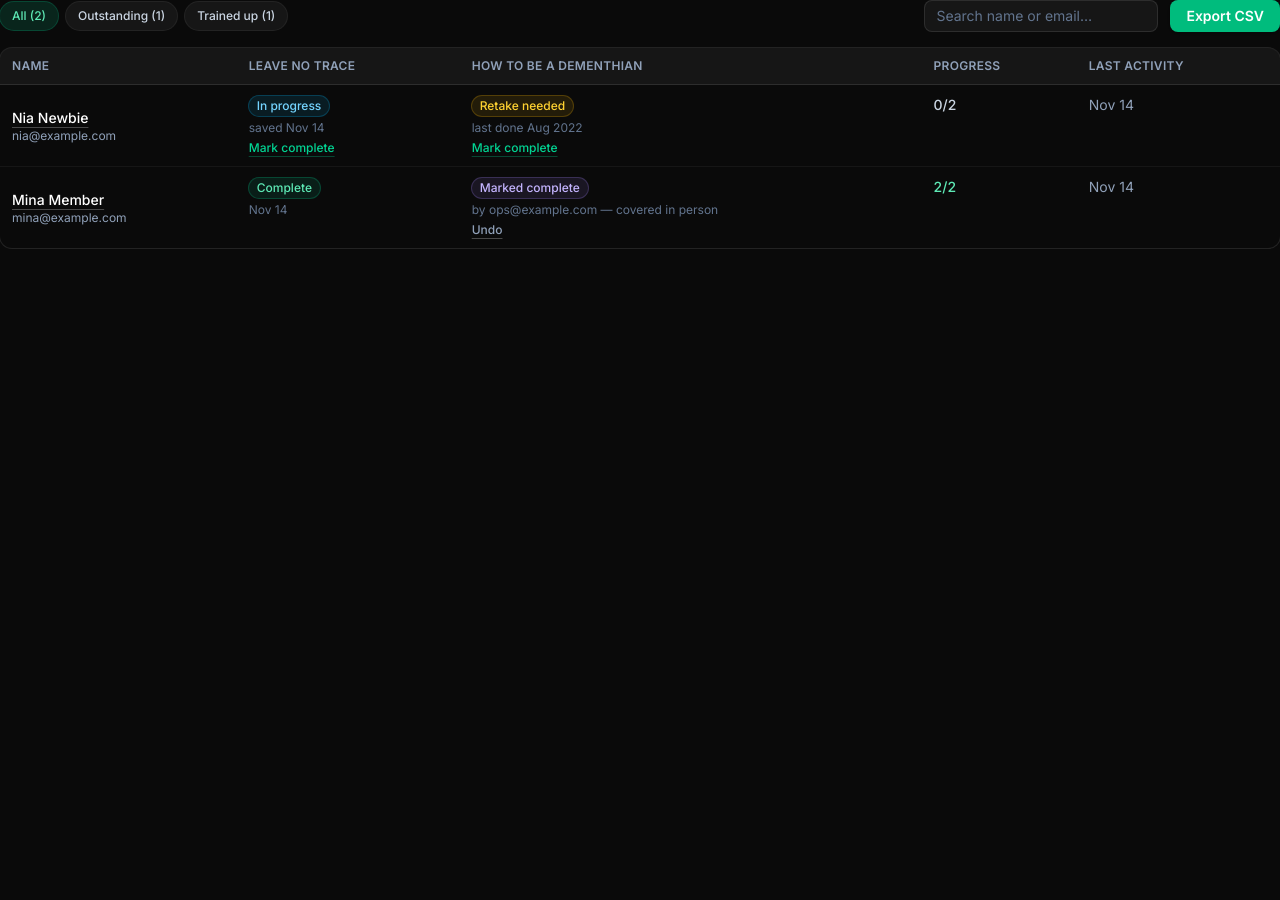
TrainingTable › surfaces a rejected override instead of closing the dialog
Click the button with aria-label "Mark Leave No Trace complete for Nia Newbie": point(292, 148) x1=249 y1=140 x2=334 y2=156
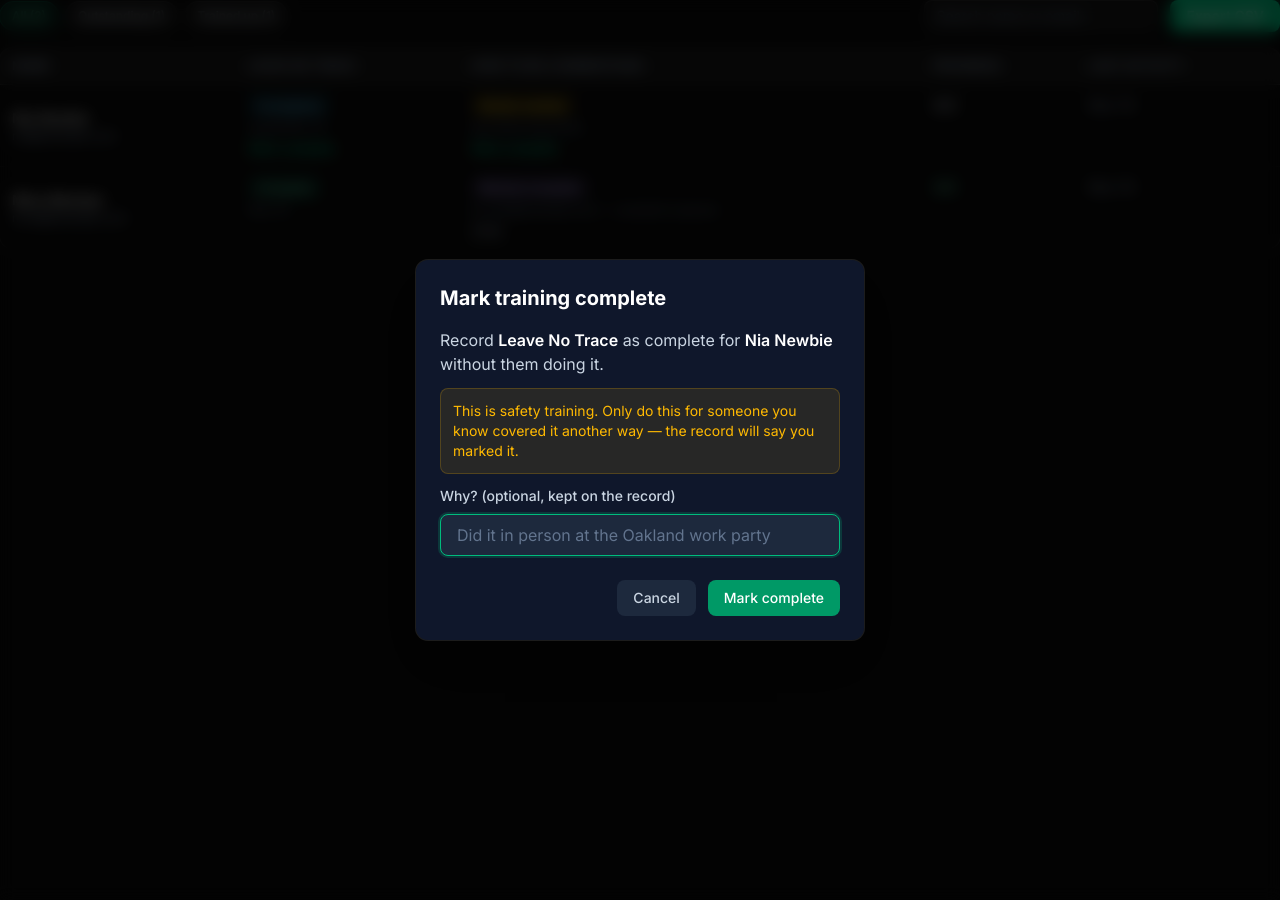
Click the button "Mark complete": point(774, 598) x1=708 y1=580 x2=840 y2=616
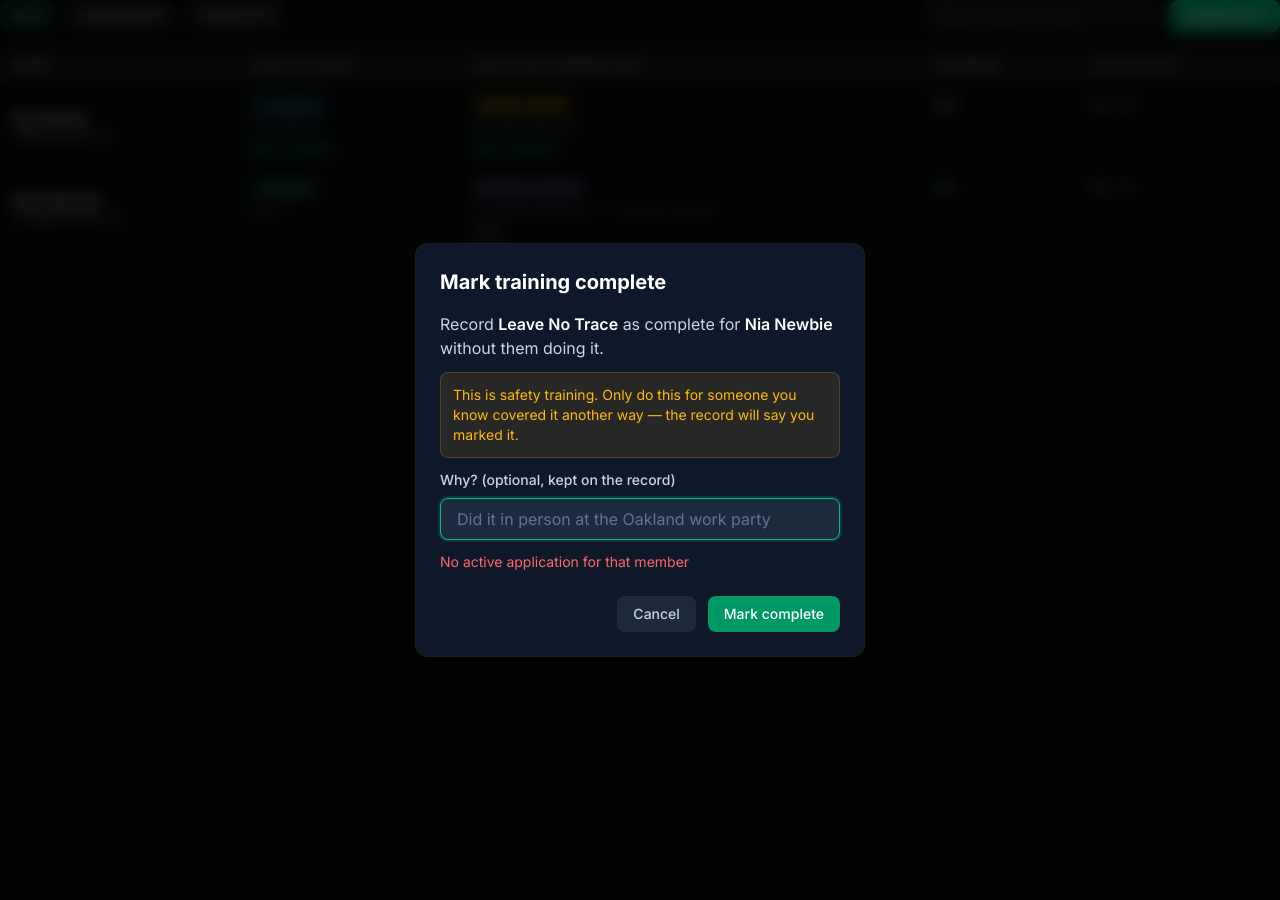
Now the text "No active application for that member" is shown, box x1=440 y1=553 x2=689 y2=570
